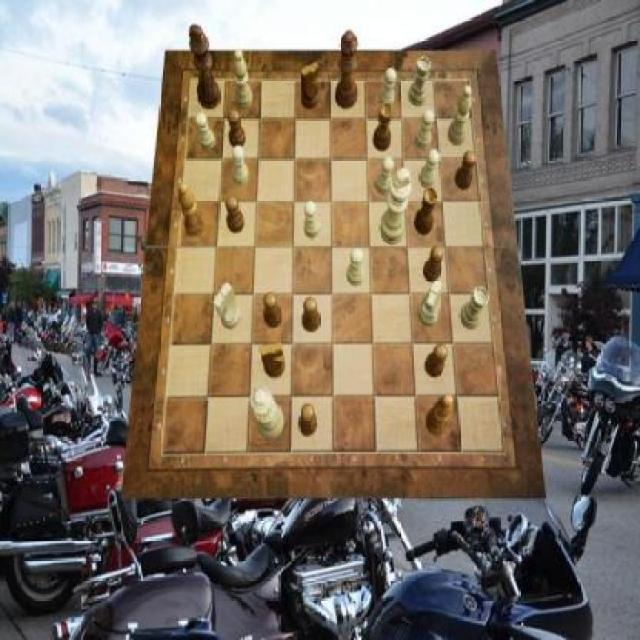bishop: (178, 182, 206, 236), (426, 394, 454, 436)
black-bishop: (189, 25, 222, 110)
black-king: (260, 342, 286, 379), (300, 63, 319, 111)
black-knight: (455, 151, 478, 191), (424, 344, 448, 378), (423, 246, 443, 282), (263, 292, 282, 328), (227, 197, 246, 233), (298, 403, 318, 437), (228, 109, 245, 149), (302, 297, 319, 333)
black-pawn: (336, 31, 358, 109)
black-queen: (414, 187, 437, 236), (374, 103, 394, 152)
black-rook: (448, 85, 472, 146), (234, 49, 253, 109)
white-bishop: (378, 168, 412, 244)
white-king: (214, 283, 241, 329), (418, 280, 442, 326)
white-knight: (418, 149, 439, 189), (416, 109, 436, 151), (197, 112, 217, 151), (232, 146, 250, 186), (379, 68, 396, 109), (304, 200, 322, 238), (375, 157, 393, 195), (348, 248, 365, 285)
white-pawn: (251, 384, 286, 440)
white-queen: (458, 288, 488, 330), (408, 57, 430, 106)
